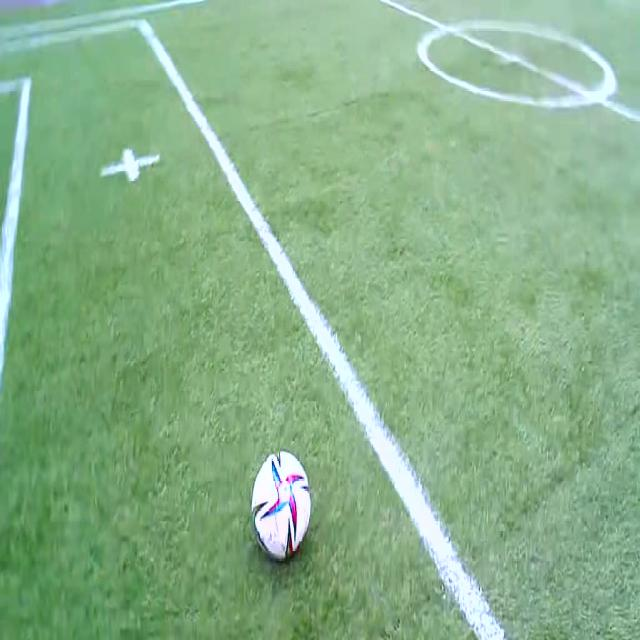ball: (252, 450, 311, 562)
